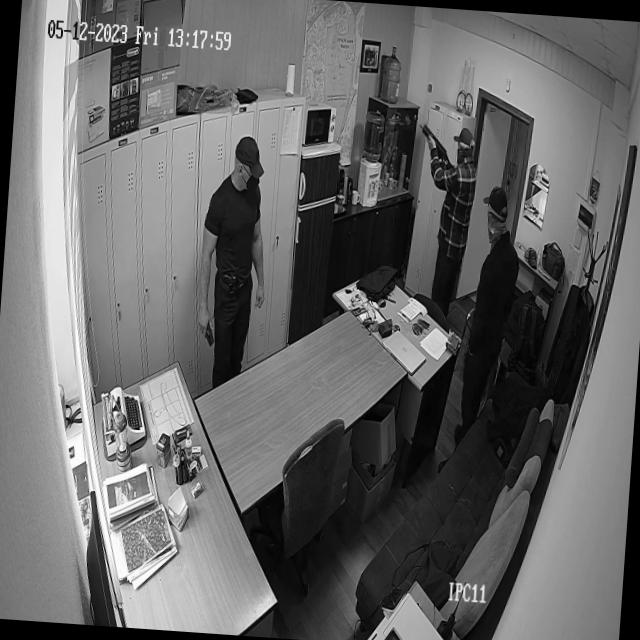gun: (417, 122, 452, 162)
person: (434, 179, 524, 481), (192, 131, 276, 393)
person with a gun: (406, 120, 480, 318)
